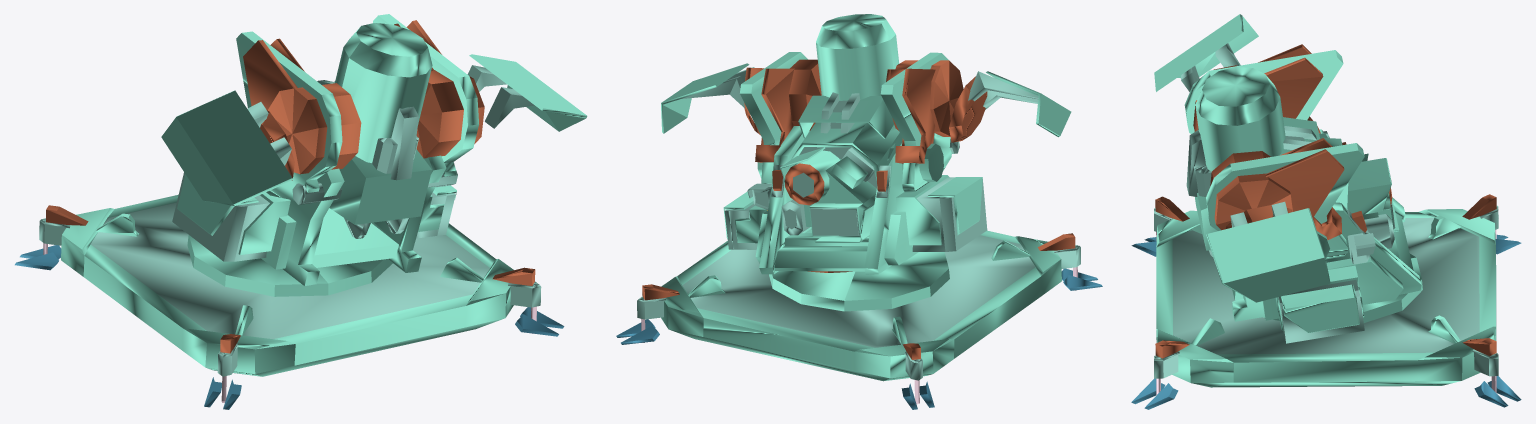
The model's file is turret_kbar_1_a_100_a.glb.
3 views of the same model, side by side, from view 1: azimuth 30°, elevation 25°; view 2: azimuth 150°, elevation 25°; view 3: azimuth 270°, elevation 25° (orthographic). The views are drawn at different scales.
Bounding box in the file's own units: 4.95 × 3.29 × 4.22.
